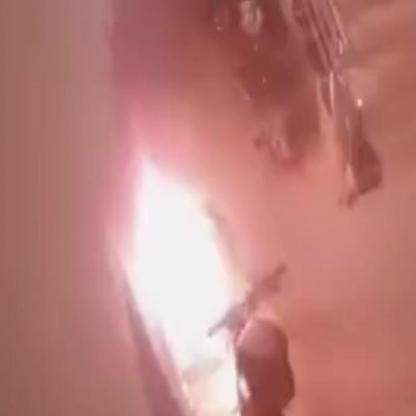fire: (116, 146, 264, 412)
